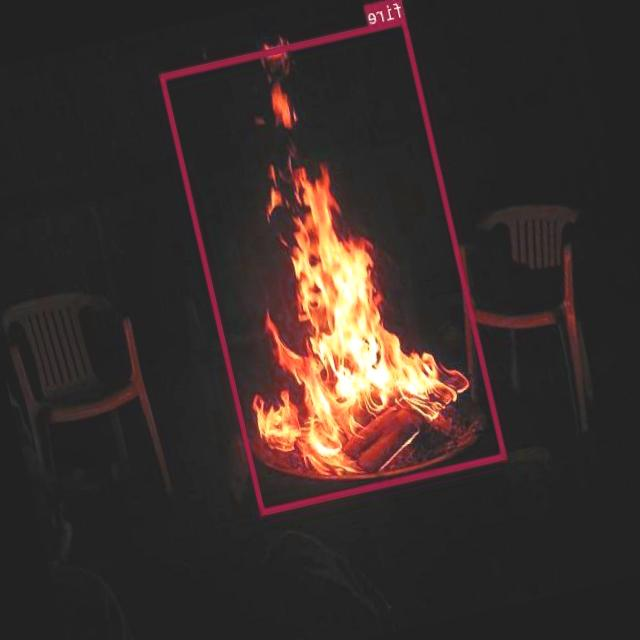fire: (160, 16, 507, 513)
